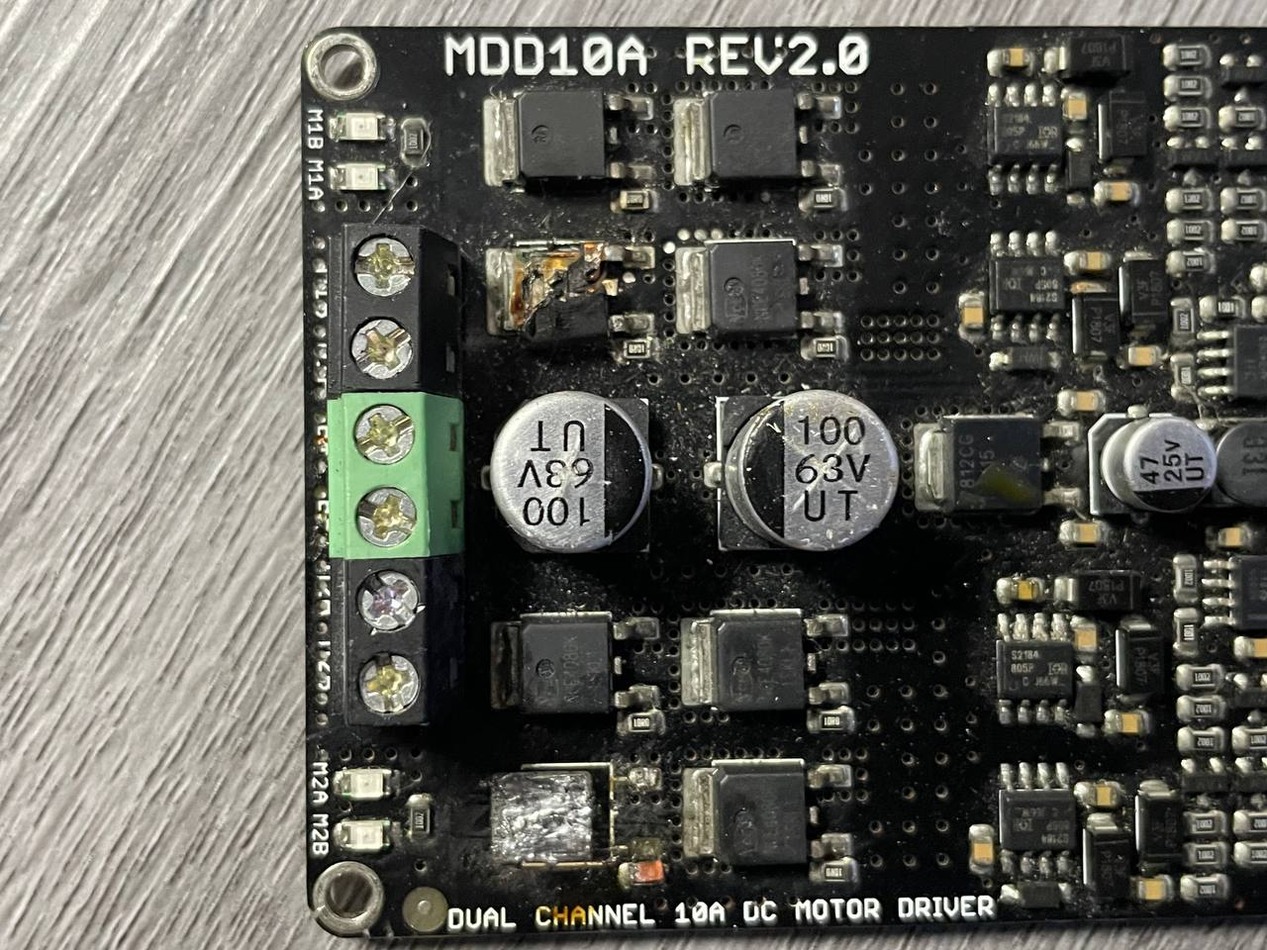broken_comp: (480, 231, 638, 352)
missing_comp: (491, 758, 629, 873)
